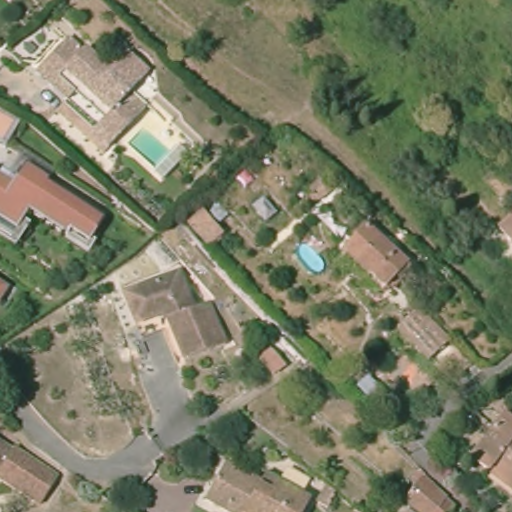pool: (125, 128, 180, 172), (293, 240, 328, 277)
